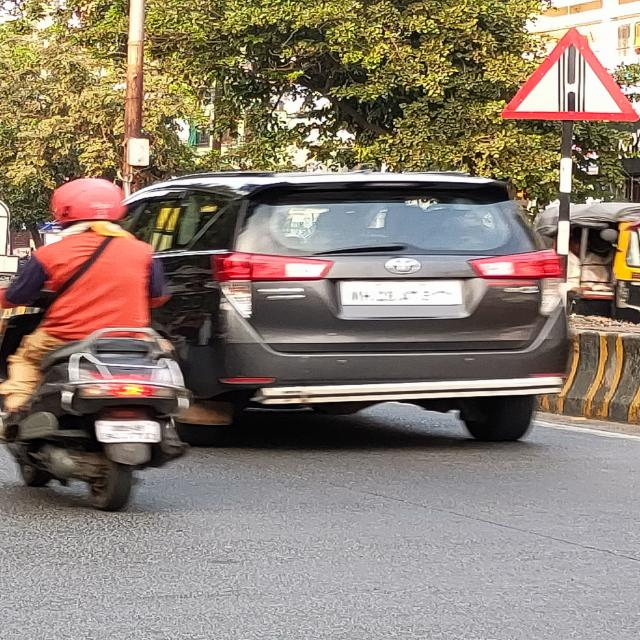ferry: (492, 28, 637, 121)
